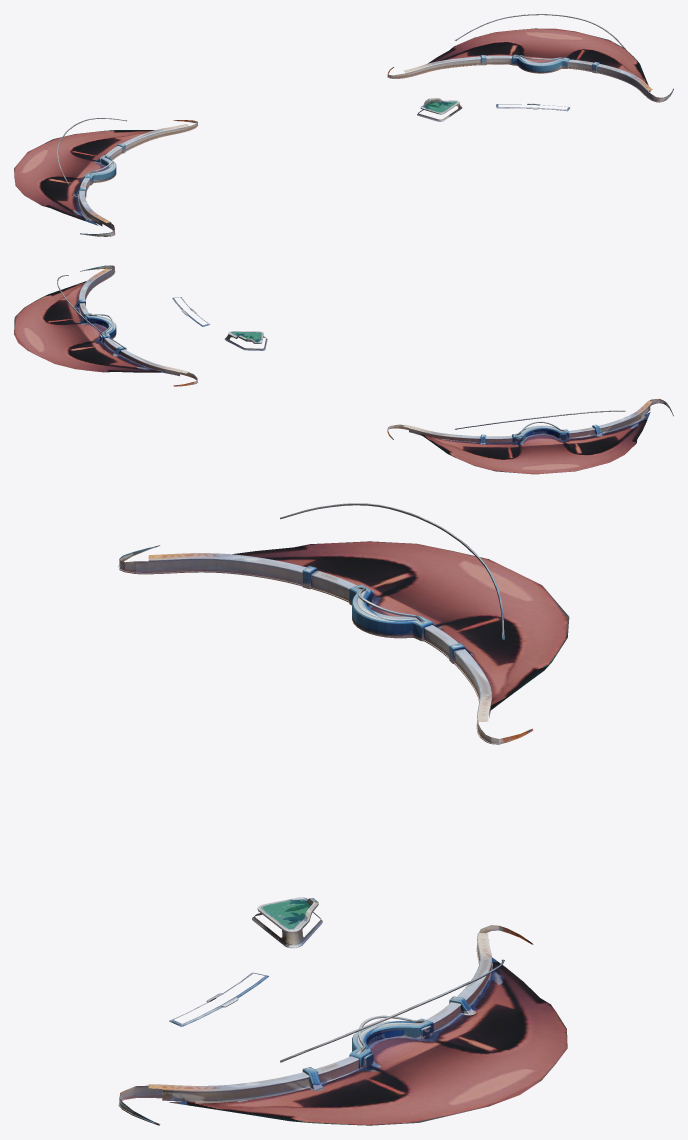
The model's file is pref_sm_beach_winter_bakegroups06_lv2.fbx.
The picture shows the model from 3 angles, top to bottom: view 1: azimuth 30°, elevation 25°; view 2: azimuth 150°, elevation 25°; view 3: azimuth 270°, elevation 25°; orthographic projection. The views are drawn at different scales.
Parts seen in each view (by area): view 1: sm_beach_winter_bakegroups06_a_lv2, sm_beach_winter_bakegroups06_c_lv2, sm_beach_winter_bakegroups06_b_lv2; view 2: sm_beach_winter_bakegroups06_c_lv2, sm_beach_winter_bakegroups06_a_lv2, sm_beach_winter_bakegroups06_b_lv2; view 3: sm_beach_winter_bakegroups06_a_lv2, sm_beach_winter_bakegroups06_c_lv2, sm_beach_winter_bakegroups06_b_lv2.
Boxes of the visible parts, box(x1,y1,x2,y2) form: sm_beach_winter_bakegroups06_a_lv2: box(387, 14, 673, 102); sm_beach_winter_bakegroups06_c_lv2: box(14, 118, 198, 236); sm_beach_winter_bakegroups06_b_lv2: box(417, 98, 570, 121); sm_beach_winter_bakegroups06_c_lv2: box(387, 398, 673, 474); sm_beach_winter_bakegroups06_a_lv2: box(14, 265, 197, 386); sm_beach_winter_bakegroups06_b_lv2: box(172, 297, 267, 350); sm_beach_winter_bakegroups06_a_lv2: box(118, 925, 567, 1125); sm_beach_winter_bakegroups06_c_lv2: box(118, 503, 569, 744); sm_beach_winter_bakegroups06_b_lv2: box(169, 897, 322, 1026).
Size of the model in its own units: 134 by 8.31 by 43.71.
